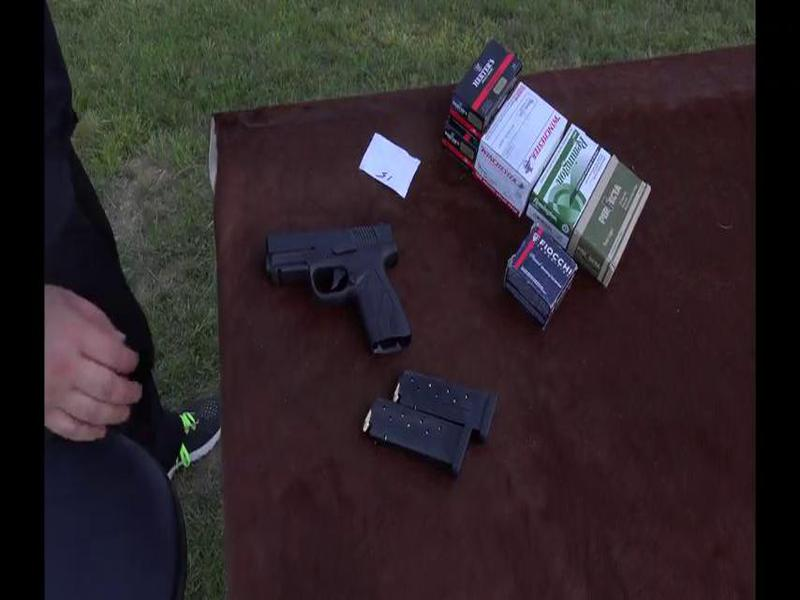Pistola: (262, 208, 427, 353)
